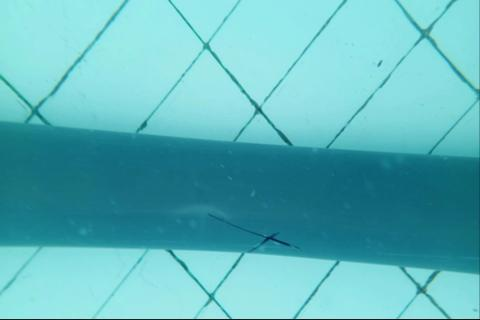keretakan: (205, 213, 299, 256)
